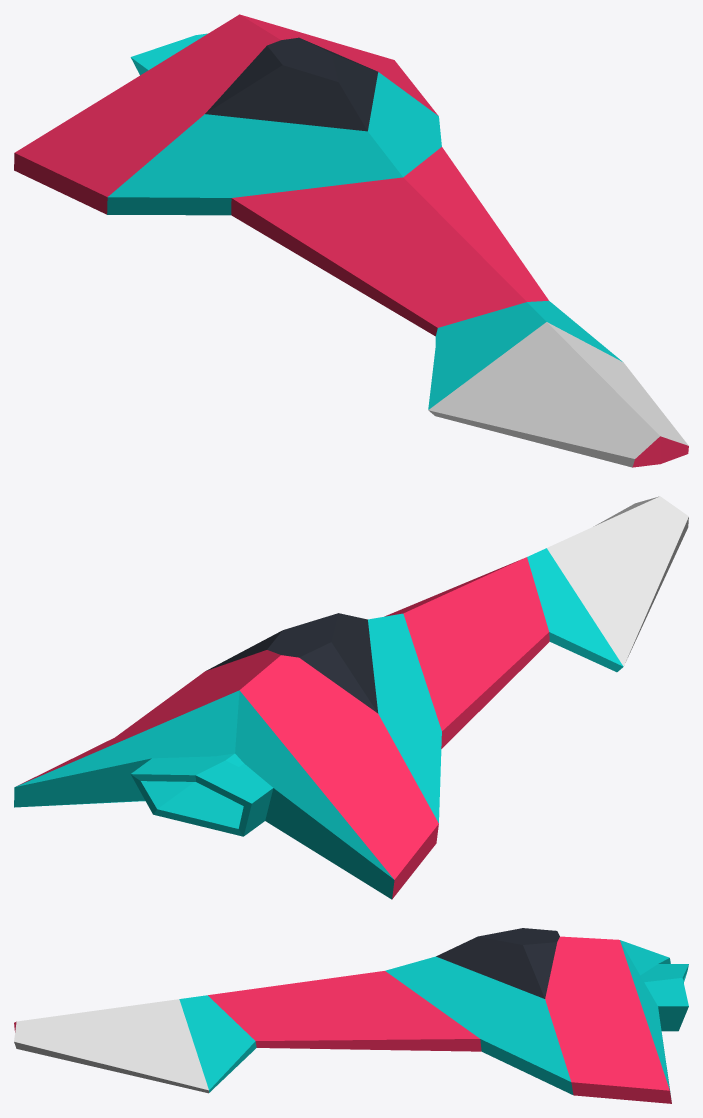
The model's file is pacer.fbx.
3 views of the same model, one above another, from view 1: azimuth 30°, elevation 25°; view 2: azimuth 150°, elevation 25°; view 3: azimuth 270°, elevation 25° (orthographic). The views are drawn at different scales.
Visible parts, largest first — view 1: ship 5; view 2: ship 5; view 3: ship 5.
Boxes of the visible parts, x1,y1,x2,y2 form: ship 5: [14, 14, 688, 467]; ship 5: [14, 496, 688, 899]; ship 5: [14, 928, 688, 1103].
Size of the model in its own units: 1294 by 265 by 603.
